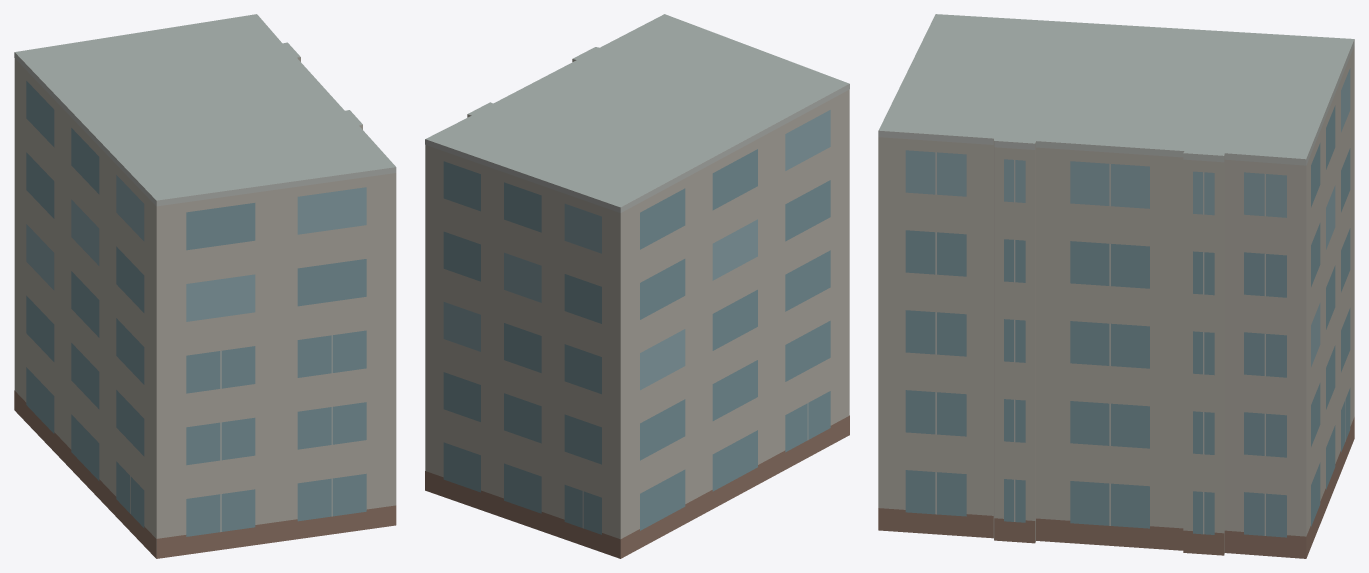
Rendered from survey-upis-32493205.glb.
The picture shows the model from 3 angles, left to right: view 1: azimuth 30°, elevation 25°; view 2: azimuth 150°, elevation 25°; view 3: azimuth 270°, elevation 25°; orthographic projection. The views are drawn at different scales.
Visible parts, largest first — view 1: survey-upis-32493205.tmp; view 2: survey-upis-32493205.tmp; view 3: survey-upis-32493205.tmp.
Part boxes in pixels (left/top/right/bottom): survey-upis-32493205.tmp: left=14, top=14, right=396, bottom=558; survey-upis-32493205.tmp: left=425, top=14, right=849, bottom=558; survey-upis-32493205.tmp: left=878, top=14, right=1354, bottom=558.
Bounding box in the file's own units: 11.77 × 15.1 × 16.31.
